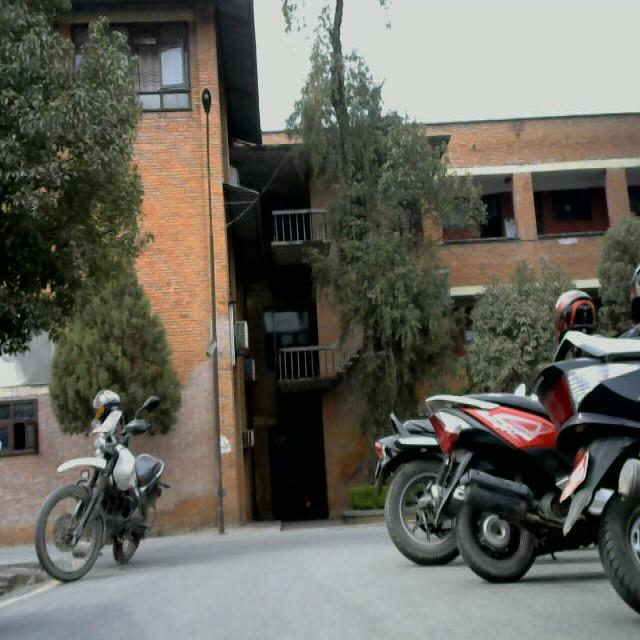Bike: (369, 271, 640, 620), (38, 379, 176, 579)
Pole: (190, 80, 249, 559)
Road: (67, 537, 640, 640)
trees: (288, 2, 472, 396), (1, 4, 179, 376)
